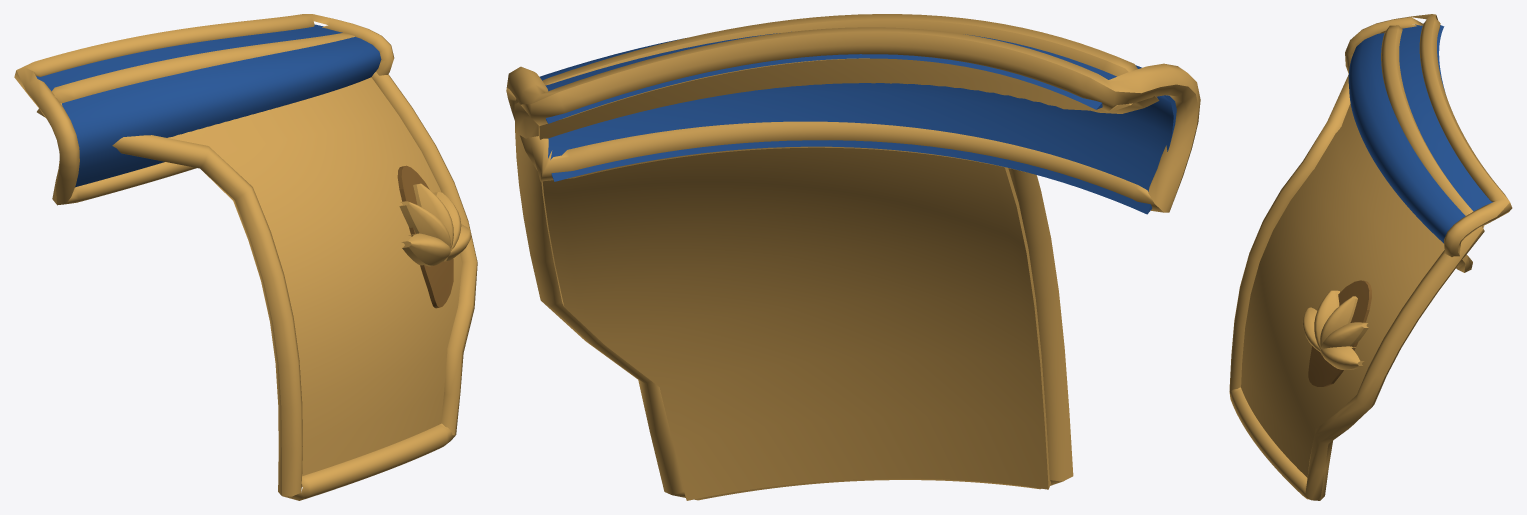
File: shoulder-armour-near.glb
3 views of the same model, side by side, from view 1: azimuth 30°, elevation 25°; view 2: azimuth 150°, elevation 25°; view 3: azimuth 270°, elevation 25° (orthographic). The views are drawn at different scales.
Parts seen in each view (by area): view 1: OriginalLeftShoulderArmour; view 2: OriginalLeftShoulderArmour; view 3: OriginalLeftShoulderArmour.
Part boxes in pixels (x1,y1,x2,y2): OriginalLeftShoulderArmour: (14,14,477,500); OriginalLeftShoulderArmour: (506,14,1200,500); OriginalLeftShoulderArmour: (1229,14,1512,500).
Size of the model in its own units: 0.1065 by 0.0993 by 0.0733.
